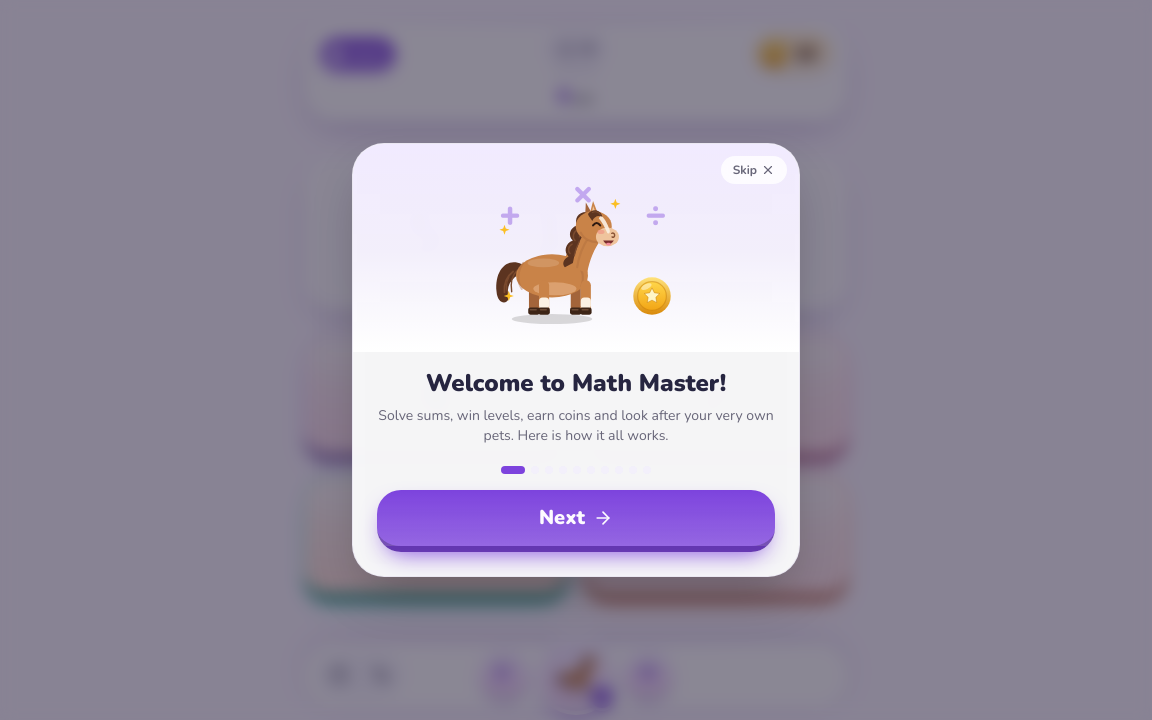
Scenario: GameScreen › shows how to play on the first visit, with the clock stopped, and again from the ? button
Expected: the dialog named "How to play" shows "Welcome to Math Master!", [426,367,726,399]
Click the button "Next".
click(576, 521)  # box [377,490,775,552]
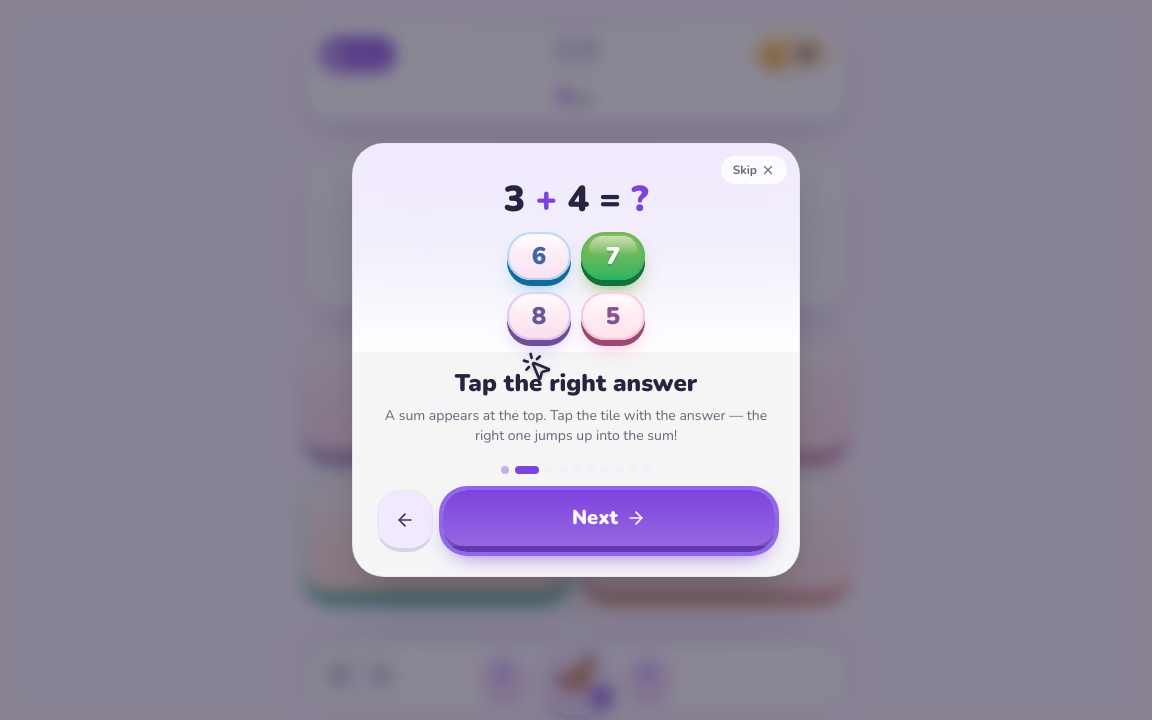
Expected: the heading "Tap the right answer" is shown, [455,367,697,399]
Click the button "Skip".
click(754, 170)  # box [721,156,787,184]
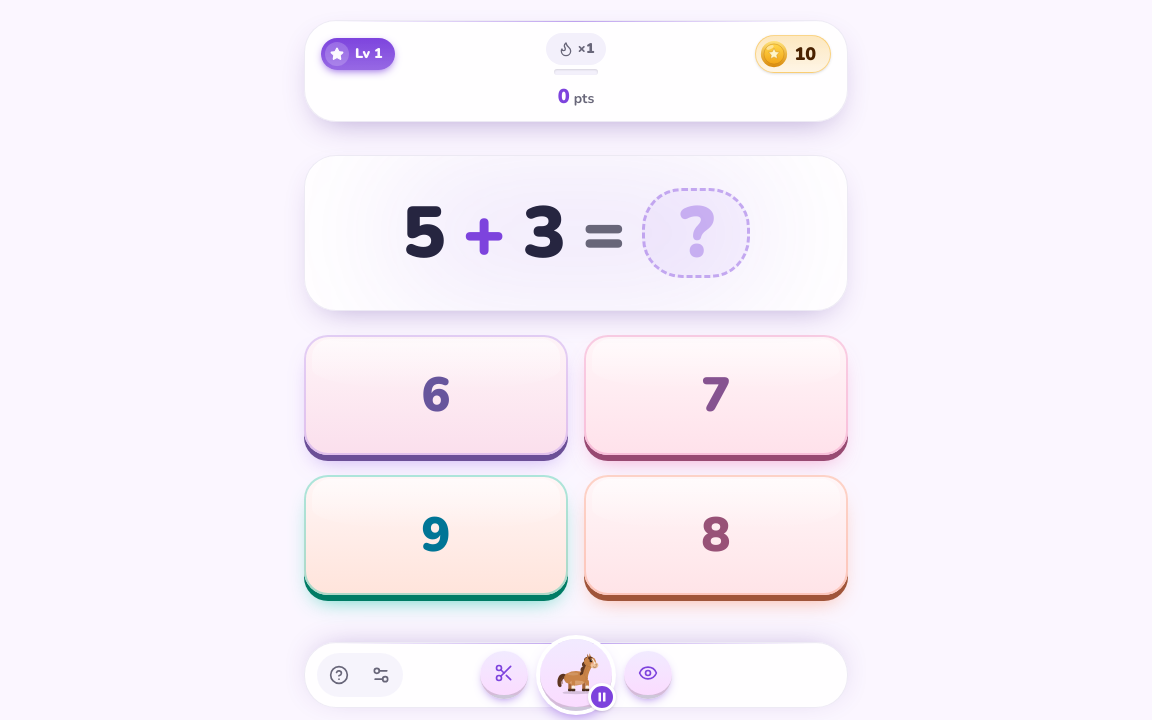
Expected: the dialog is gone
Note: Playable straight away: the tour's pause is lifted with it.
Click the button "8".
click(716, 535)  # box [584,475,848,595]
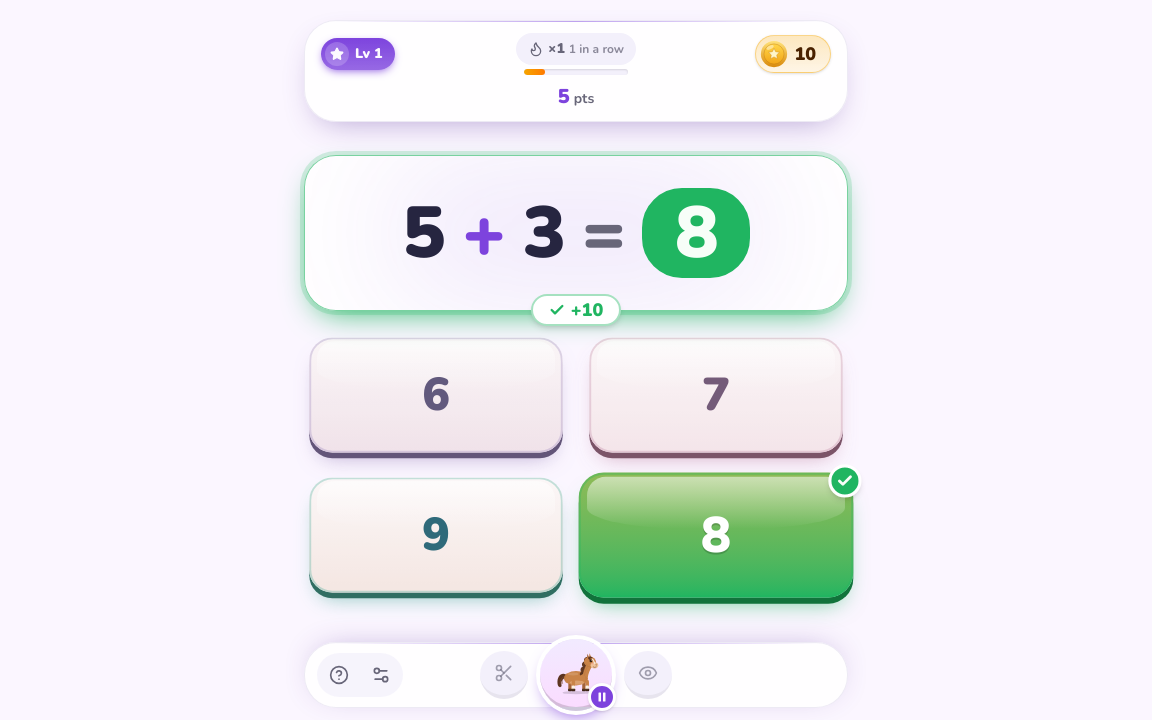
Expected: the text "+10" is shown, [571,296,603,324]
Click the button named "How to play".
click(339, 675)  # box [319,655,359,695]
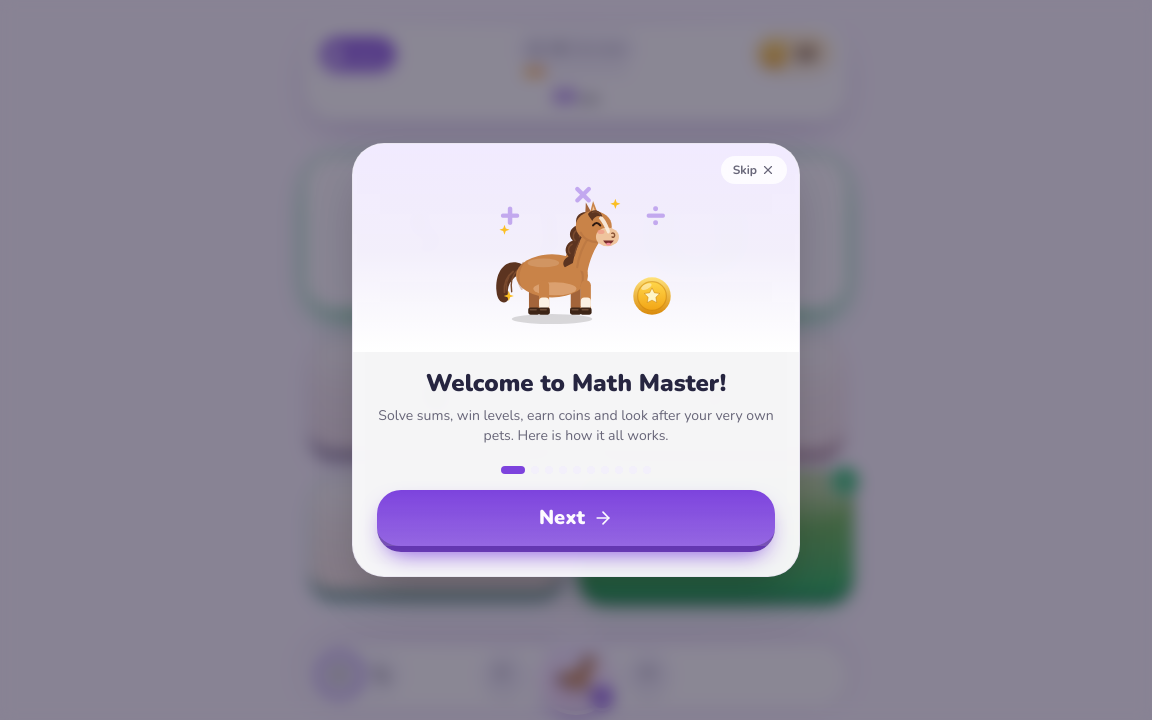
Expected: the dialog named "How to play" is shown, [352,143,800,577]
